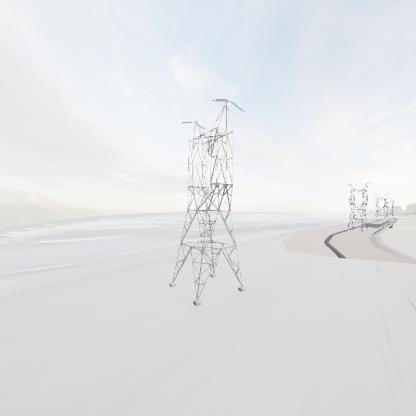tower: (167, 98, 250, 308), (345, 179, 371, 233)
